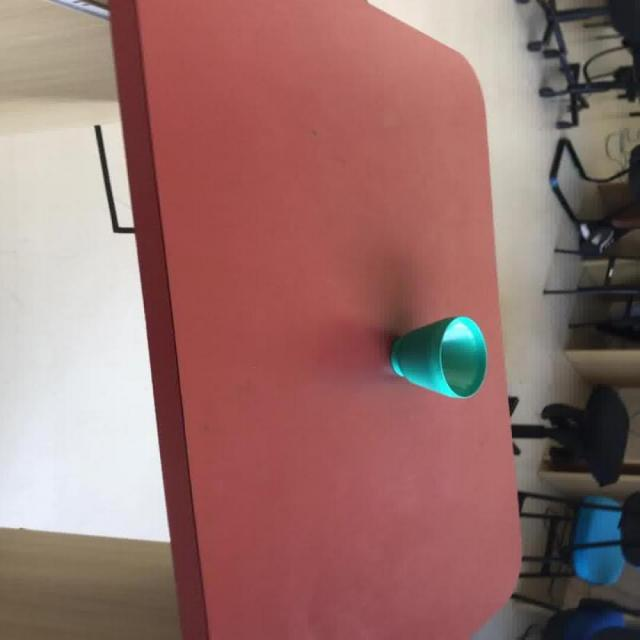Bowl: (388, 314, 488, 398)
